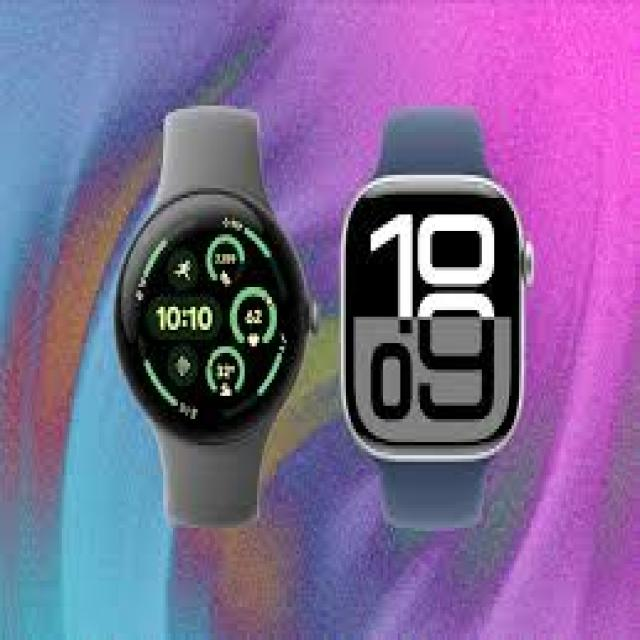objects: (116, 106, 314, 525), (341, 109, 531, 521)
